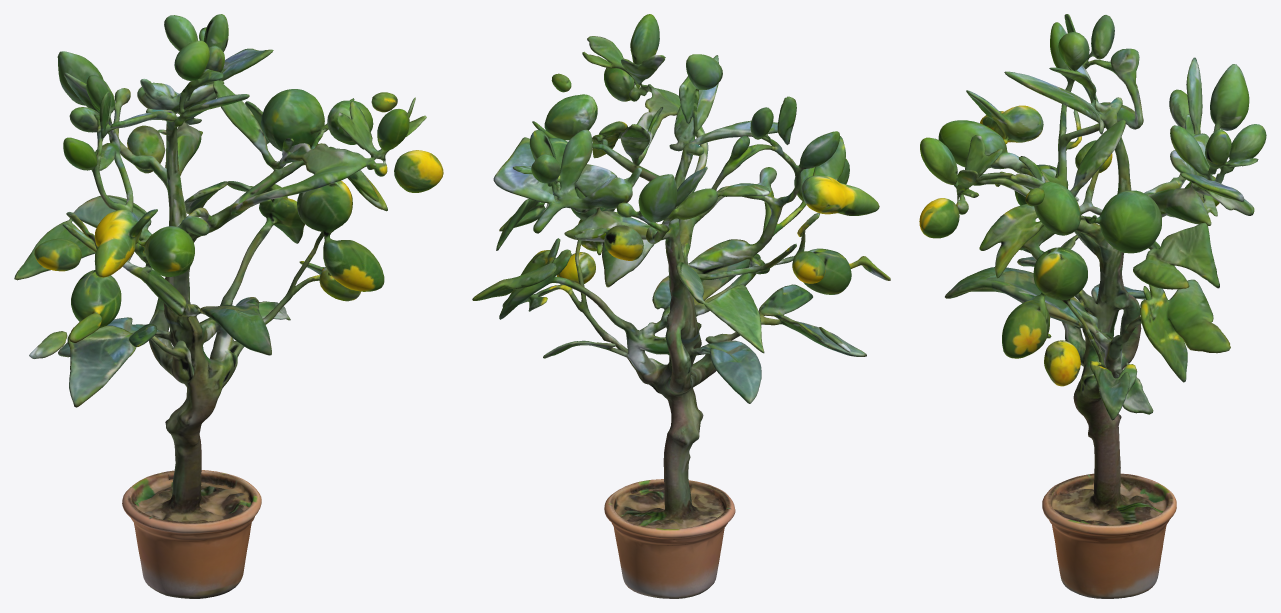
The model's file is tree0027.gltf.
3 views of the same model, side by side, from view 1: azimuth 30°, elevation 25°; view 2: azimuth 150°, elevation 25°; view 3: azimuth 270°, elevation 25° (orthographic). The views are drawn at different scales.
Visible parts, largest first — view 1: Mesh_0; view 2: Mesh_0; view 3: Mesh_0.
Boxes of the visible parts, x1,y1,x2,y2 form: Mesh_0: (14, 14, 443, 598); Mesh_0: (472, 14, 890, 598); Mesh_0: (919, 14, 1266, 598).
Bounding box in the file's own units: 1.35 × 2 × 1.16.
Materials: 1 (1 with a texture image).
